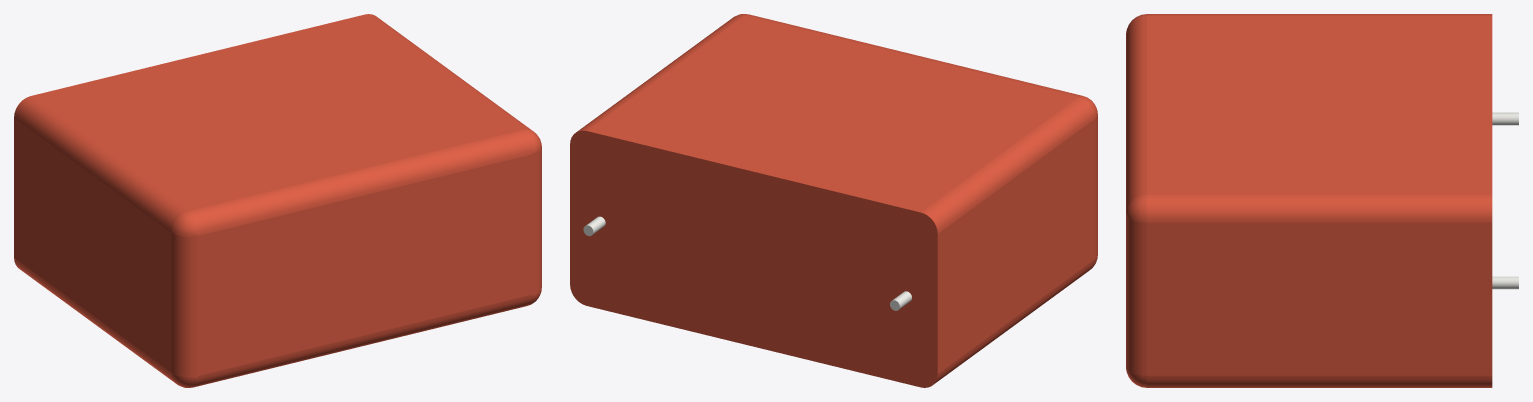
The model's file is C_Rect_L33.0mm_W15.0mm_P27.50mm_MKS4.glb.
The picture shows the model from 3 angles, left to right: view 1: azimuth 30°, elevation 25°; view 2: azimuth 150°, elevation 25°; view 3: azimuth 270°, elevation 25°; orthographic projection. The views are drawn at different scales.
Visible parts, largest first — view 1: Shape_IndexedFaceSet.009, Shape_IndexedFaceSet.008, Shape_IndexedFaceSet, Shape_IndexedFaceSet.016, Shape_IndexedFaceSet.004, Shape_IndexedFaceSet.002, Shape_IndexedFaceSet.015, Shape_IndexedFaceSet.017, Shape_IndexedFaceSet.001, Shape_IndexedFaceSet.011, Shape_IndexedFaceSet.007; view 2: Shape_IndexedFaceSet.003, Shape_IndexedFaceSet.009, Shape_IndexedFaceSet, Shape_IndexedFaceSet.004, Shape_IndexedFaceSet.001, Shape_IndexedFaceSet.011, Shape_IndexedFaceSet.016; view 3: Shape_IndexedFaceSet.009, Shape_IndexedFaceSet.012, Shape_IndexedFaceSet.011, Shape_IndexedFaceSet.010, Shape_IndexedFaceSet.016, Shape_IndexedFaceSet.017, Shape_IndexedFaceSet.004, Shape_IndexedFaceSet.019, Shape_IndexedFaceSet.013, Shape_IndexedFaceSet.014.
Boxes of the visible parts, x1,y1,x2,y2 form: Shape_IndexedFaceSet.009: (31,14,522,211); Shape_IndexedFaceSet.008: (198,154,532,375); Shape_IndexedFaceSet: (14,118,171,372); Shape_IndexedFaceSet.016: (188,130,532,235); Shape_IndexedFaceSet.004: (14,96,187,232); Shape_IndexedFaceSet.002: (171,233,197,376); Shape_IndexedFaceSet.015: (194,294,532,387); Shape_IndexedFaceSet.017: (532,148,541,294); Shape_IndexedFaceSet.001: (14,258,175,383); Shape_IndexedFaceSet.011: (365,14,532,130); Shape_IndexedFaceSet.007: (171,211,197,236); Shape_IndexedFaceSet.003: (570,130,937,387); Shape_IndexedFaceSet.009: (587,15,1078,212); Shape_IndexedFaceSet: (937,119,1095,373); Shape_IndexedFaceSet.004: (921,97,1095,233); Shape_IndexedFaceSet.001: (932,259,1095,385); Shape_IndexedFaceSet.011: (577,15,743,131); Shape_IndexedFaceSet.016: (745,14,1082,96); Shape_IndexedFaceSet.009: (1147,16,1492,194); Shape_IndexedFaceSet.012: (1147,222,1492,375); Shape_IndexedFaceSet.011: (1147,194,1492,222); Shape_IndexedFaceSet.010: (1147,375,1492,387); Shape_IndexedFaceSet.016: (1126,16,1146,211); Shape_IndexedFaceSet.017: (1126,214,1146,375); Shape_IndexedFaceSet.004: (1147,14,1492,15); Shape_IndexedFaceSet.019: (1126,194,1146,222); Shape_IndexedFaceSet.013: (1492,112,1518,125); Shape_IndexedFaceSet.014: (1492,276,1518,289).
Bounding box in the file's own units: 12.99 × 5.91 × 10.98.
